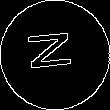N_E: (27, 32, 82, 78)
